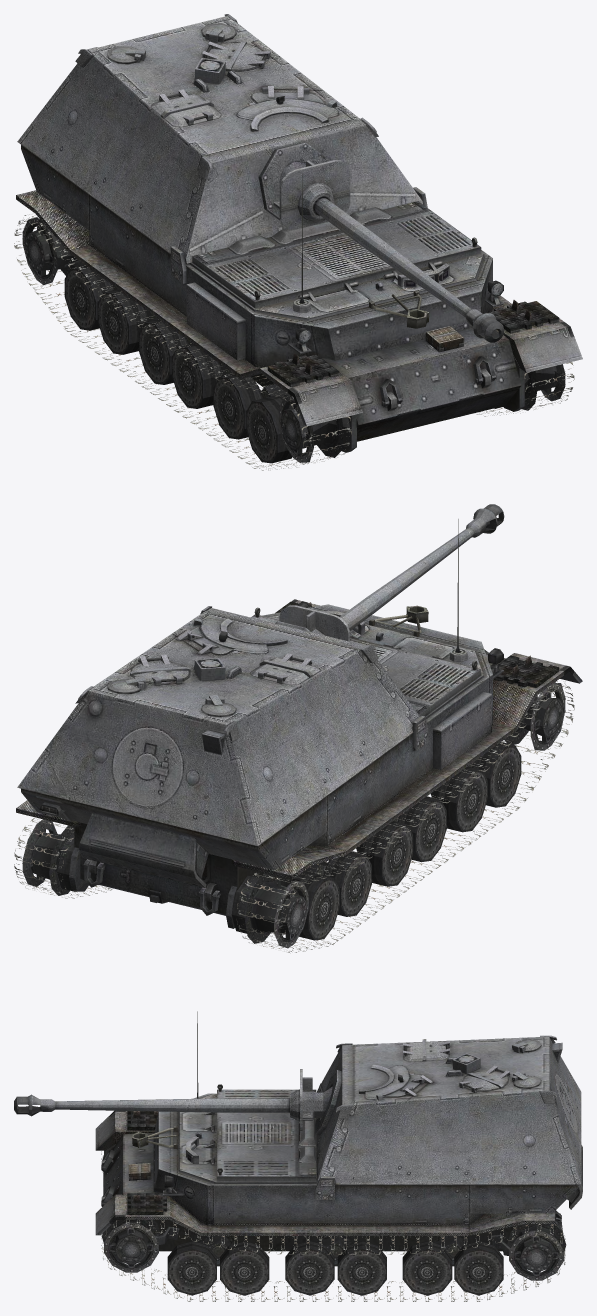
Rendered from Ferdinand.obj.
The picture shows the model from 3 angles, top to bottom: view 1: azimuth 30°, elevation 25°; view 2: azimuth 150°, elevation 25°; view 3: azimuth 270°, elevation 25°; orthographic projection. The views are drawn at different scales.
Visible parts, largest first — view 1: vehicle#hull_18, vehicle#gun_01_19, vehicle#chassis_track_R_15, vehicle#chassis_wheel_R_01_2, vehicle#chassis_wheel_R_04_8, vehicle#chassis_wheel_R_06_6, vehicle#chassis_wheel_R_03_9, vehicle#chassis_wheel_R_02_1, vehicle#chassis_wheel_R_08_17, vehicle#chassis_wheel_R_07_0, vehicle#chassis_wheel_R_05_7, vehicle#chassis_wheel_L_01_13; view 2: vehicle#hull_18, vehicle#gun_01_19, vehicle#chassis_wheel_R_08_17, vehicle#chassis_track_R_15, vehicle#chassis_wheel_L_08_16, vehicle#chassis_wheel_R_05_7, vehicle#chassis_wheel_R_03_9, vehicle#chassis_wheel_R_01_2, vehicle#chassis_wheel_R_06_6, vehicle#chassis_wheel_R_04_8, vehicle#chassis_wheel_R_02_1, vehicle#chassis_wheel_R_07_0 (+1 smaller); view 3: vehicle#hull_18, vehicle#gun_01_19, vehicle#chassis_track_L_14, vehicle#chassis_wheel_L_08_16, vehicle#chassis_wheel_L_01_13, vehicle#chassis_wheel_L_06_4, vehicle#chassis_wheel_L_07_3, vehicle#chassis_wheel_L_02_12, vehicle#chassis_wheel_L_03_11, vehicle#chassis_wheel_L_05_5, vehicle#chassis_wheel_L_04_10.
Part boxes in pixels (<box>): vehicle#hull_18: <box>16,14,582,452</box>; vehicle#gun_01_19: <box>273,160,504,342</box>; vehicle#chassis_track_R_15: <box>14,214,351,470</box>; vehicle#chassis_wheel_R_01_2: <box>279,395,349,462</box>; vehicle#chassis_wheel_R_04_8: <box>171,343,222,408</box>; vehicle#chassis_wheel_R_06_6: <box>97,289,148,354</box>; vehicle#chassis_wheel_R_03_9: <box>213,373,262,439</box>; vehicle#chassis_wheel_R_02_1: <box>246,396,292,463</box>; vehicle#chassis_wheel_R_08_17: <box>22,217,77,284</box>; vehicle#chassis_wheel_R_07_0: <box>64,265,113,330</box>; vehicle#chassis_wheel_R_05_7: <box>139,319,187,384</box>; vehicle#chassis_wheel_L_01_13: <box>521,364,565,410</box>; vehicle#hull_18: <box>16,519,582,928</box>; vehicle#gun_01_19: <box>279,504,504,641</box>; vehicle#chassis_wheel_R_08_17: <box>231,873,308,948</box>; vehicle#chassis_track_R_15: <box>236,681,574,952</box>; vehicle#chassis_wheel_L_08_16: <box>22,819,88,895</box>; vehicle#chassis_wheel_R_05_7: <box>362,821,413,886</box>; vehicle#chassis_wheel_R_03_9: <box>436,766,487,832</box>; vehicle#chassis_wheel_R_01_2: <box>504,682,565,750</box>; vehicle#chassis_wheel_R_06_6: <box>323,851,371,916</box>; vehicle#chassis_wheel_R_04_8: <box>397,796,446,862</box>; vehicle#chassis_wheel_R_02_1: <box>472,742,521,807</box>; vehicle#chassis_wheel_R_07_0: <box>295,873,339,940</box>; vehicle#hull_18: <box>95,1011,582,1266</box>; vehicle#gun_01_19: <box>14,1069,332,1132</box>; vehicle#chassis_track_L_14: <box>101,1220,565,1301</box>; vehicle#chassis_wheel_L_08_16: <box>507,1224,566,1280</box>; vehicle#chassis_wheel_L_01_13: <box>102,1220,160,1272</box>; vehicle#chassis_wheel_L_06_4: <box>402,1241,452,1295</box>; vehicle#chassis_wheel_L_07_3: <box>454,1241,503,1295</box>; vehicle#chassis_wheel_L_02_12: <box>167,1241,216,1295</box>; vehicle#chassis_wheel_L_03_11: <box>220,1241,269,1295</box>; vehicle#chassis_wheel_L_05_5: <box>337,1241,386,1295</box>; vehicle#chassis_wheel_L_04_10: <box>285,1241,334,1295</box>.
Bounding box in the file's own units: 3.38 × 3.54 × 7.64.
2 materials, 2 textured.
